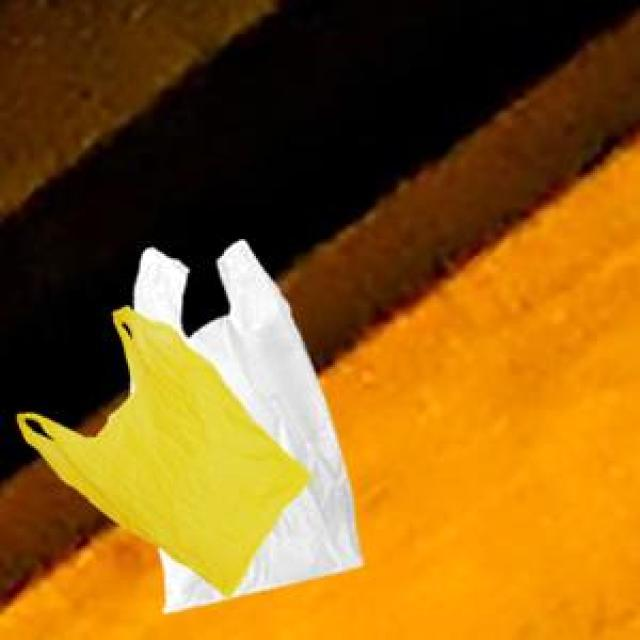Plastic_Bag: (14, 304, 308, 594), (131, 238, 360, 609)
